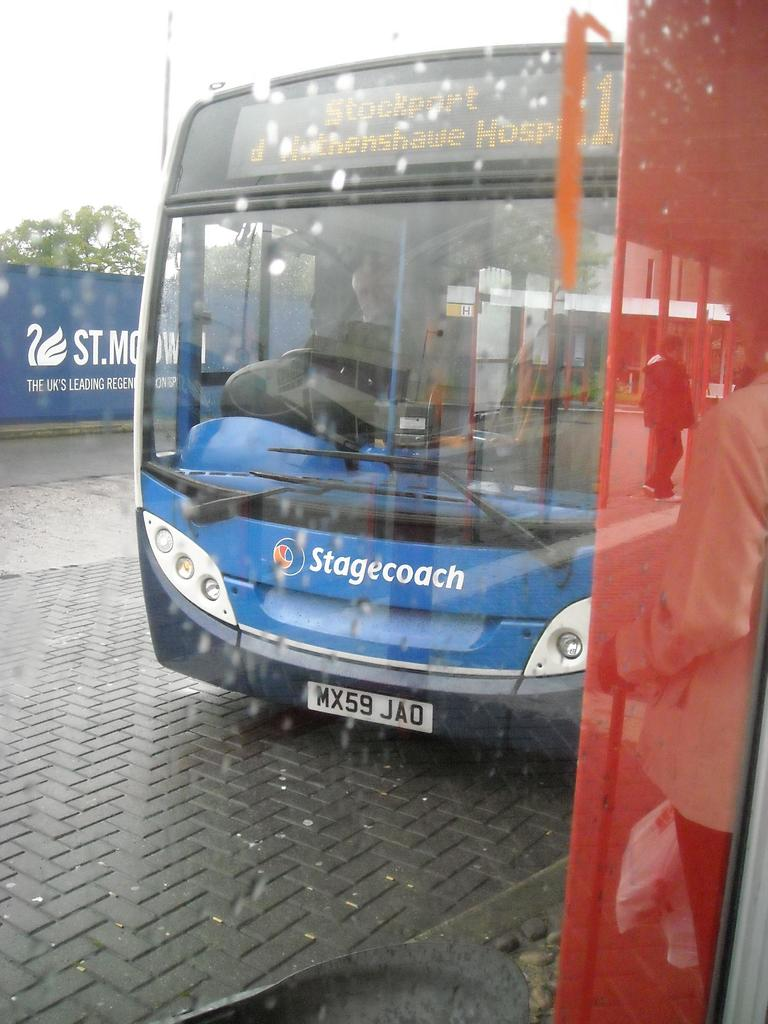Bus: (133, 8, 627, 757)
